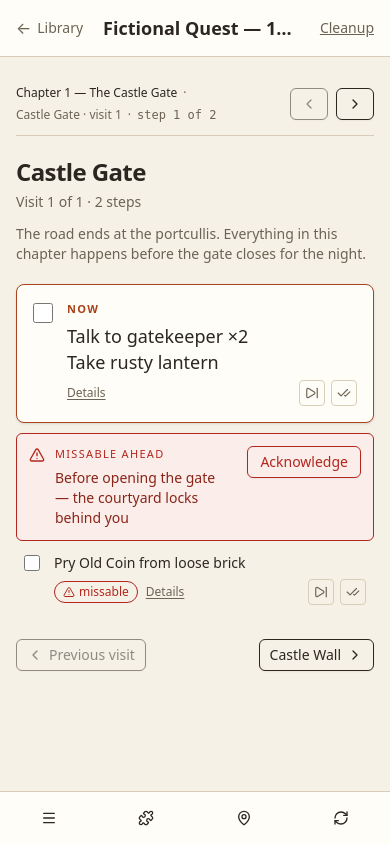
Test: app shell › opens the chapter sheet from the ☰ action
Check: the text "Talk to gatekeeper ×2" is shown, box [67,324,248,348]
Click the button titled "Chapters".
click(49, 818)  # box [31,800,67,836]
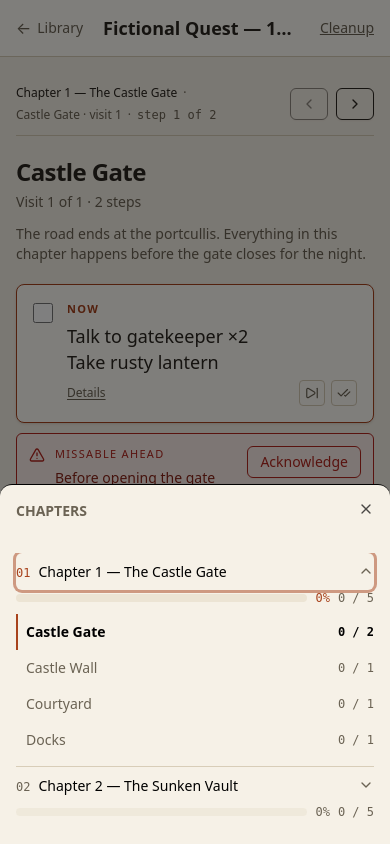
Check: the button "02 Chapter 2 — The Sunken Vault" is shown, box [16,767,374,804]
